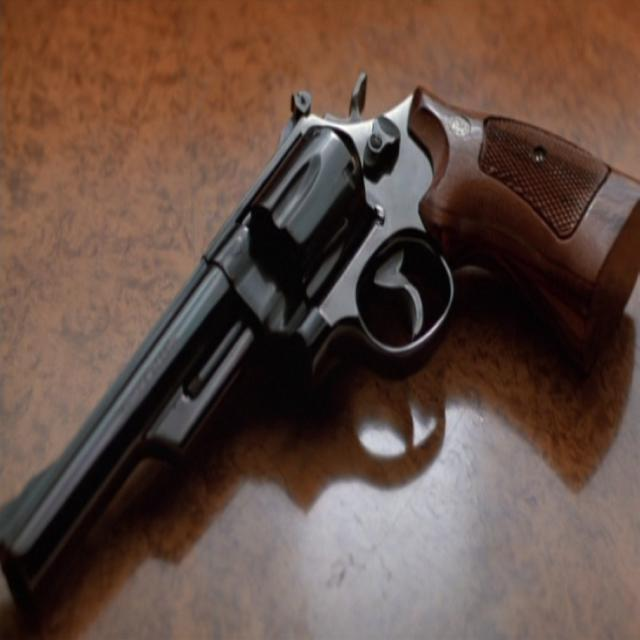gun-knife-thesis - v11 Yolov5 augmented: (1, 72, 639, 604)
